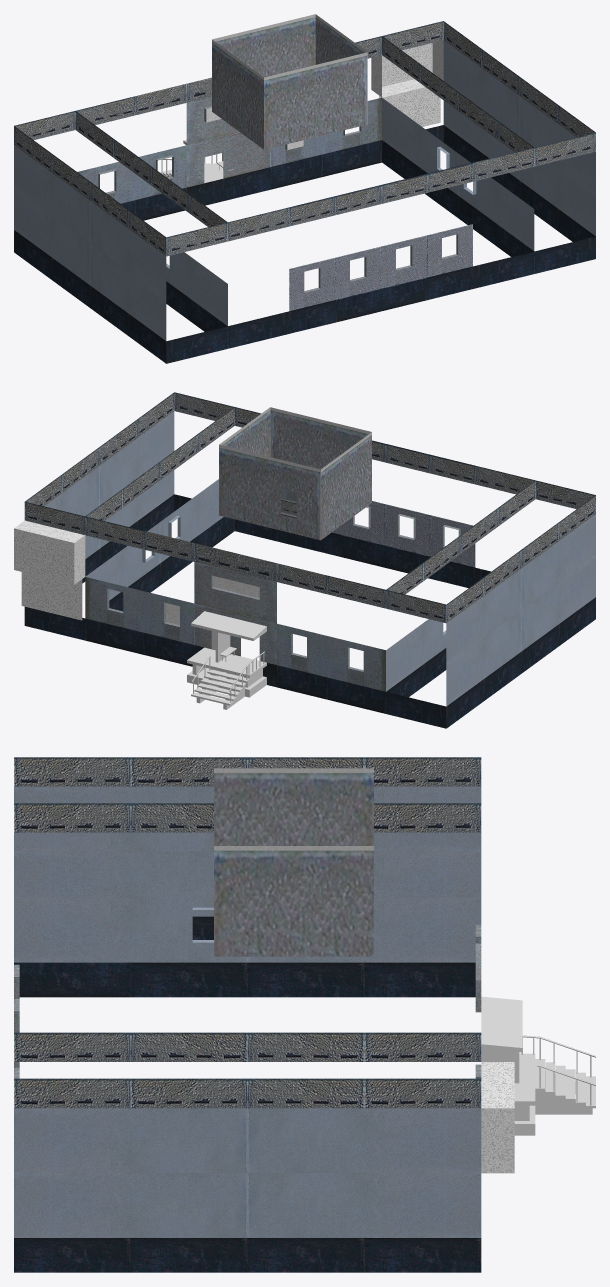
File: Build.fbx
3 renders of one model, top to bottom at view 1: azimuth 30°, elevation 25°; view 2: azimuth 150°, elevation 25°; view 3: azimuth 270°, elevation 25°, orthographic. The views are drawn at different scales.
Visible parts, largest first — view 1: Build_Deck_Roof_Under, Build_Deck_Walls_B_B, Build_Deck_Walls, Build_Deck_Walls_B, Build_Foundation, Build_Deck_Roof__B, Build_Foundation_B, Build_Deck_Roof, Build_Deck_Walls_S, Build_Deck_Roof__S, Build_Deck_Walls_PadikEnter, Build_Foundation_S (+3 smaller); view 2: Build_Deck_Roof_Under, Build_Deck_Walls, Build_Deck_Walls_B_B, Build_Deck_Roof__B, Build_Deck_Roof, Build_Foundation, Build_Deck_Walls_B, Build_Foundation_B, Build_Deck_Walls_S, Build_Deck_Roof__S, Build_Balkon_Outside, Build_Porch (+6 smaller); view 3: Build_Deck_Walls_B, Build_Deck_Walls_B_B, Build_Deck_Roof_Under, Build_Deck_Roof__B, Build_Deck_Roof__S, Build_Deck_Walls_S, Build_Foundation_B, Build_Foundation_S, Build_Porch, Build_Balkon_Outside, Build_Ladder, Build_Deck_Walls.
Part boxes in pixels (x1,y1,x2,y2): Build_Deck_Roof_Under: (212,14,367,149); Build_Deck_Walls_B_B: (14,40,595,298); Build_Deck_Walls: (77,97,472,311); Build_Deck_Walls_B: (14,100,595,340); Build_Foundation: (121,140,534,348); Build_Deck_Roof__B: (14,21,595,256); Build_Foundation_B: (14,125,595,363); Build_Deck_Roof: (76,36,534,241); Build_Deck_Walls_S: (166,98,534,325); Build_Deck_Roof__S: (75,36,533,226); Build_Deck_Walls_PadikEnter: (186,132,270,205); Build_Foundation_S: (166,140,533,331); Build_Deck_Roof_Under: (219,407,371,540); Build_Deck_Walls: (85,501,475,691); Build_Deck_Walls_B_B: (44,411,595,664); Build_Deck_Roof__B: (24,392,595,623); Build_Deck_Roof: (85,407,534,608); Build_Foundation: (85,519,490,713); Build_Deck_Walls_B: (85,470,595,706); Build_Foundation_B: (24,494,595,728); Build_Deck_Walls_S: (85,479,446,691); Build_Deck_Roof__S: (85,407,535,594); Build_Balkon_Outside: (14,520,85,584); Build_Porch: (187,611,266,697); Build_Deck_Walls_B: (14,851,481,1237); Build_Deck_Walls_B_B: (14,786,481,1172); Build_Deck_Roof_Under: (214,768,373,956); Build_Deck_Roof__B: (14,757,481,1108); Build_Deck_Roof__S: (14,803,481,1061); Build_Deck_Walls_S: (14,897,481,962); Build_Foundation_B: (14,916,481,1272); Build_Foundation_S: (14,962,475,997); Build_Porch: (481,996,535,1135); Build_Balkon_Outside: (481,1062,514,1173); Build_Ladder: (535,1059,595,1114); Build_Deck_Walls: (14,924,481,1078).
Bounding box in the file's own units: 39.81 × 17.6 × 30.45.
Materials: 3 (3 with a texture image).
